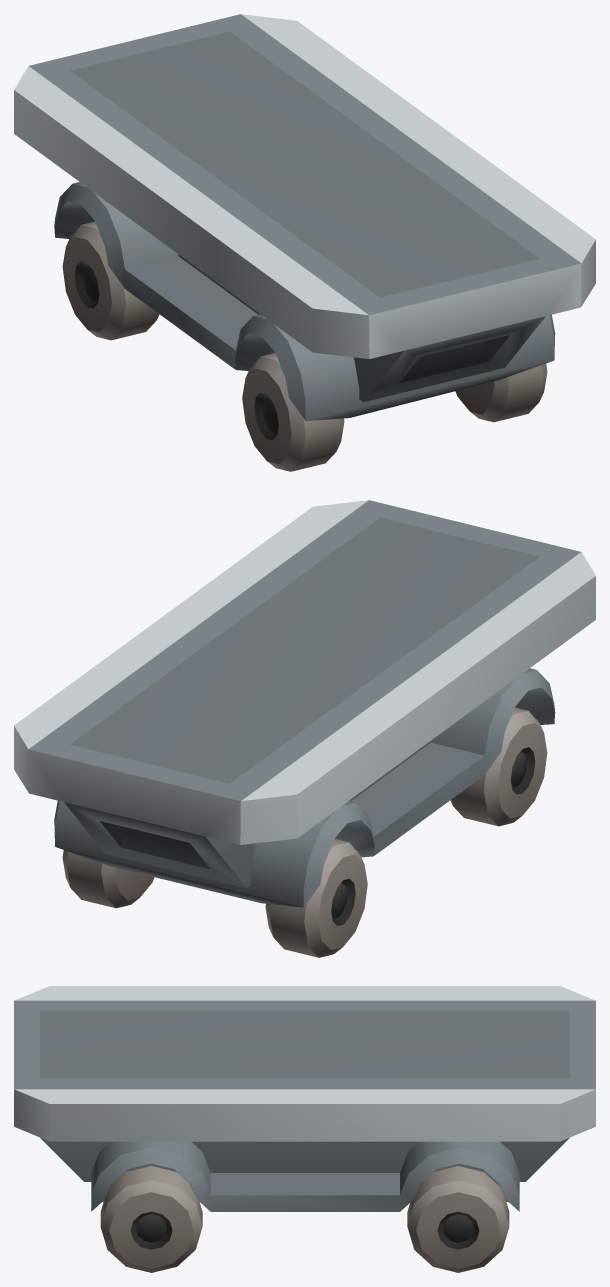
Rendered from spacetruck_trailer.gltf.
3 renders of one model, top to bottom at view 1: azimuth 30°, elevation 25°; view 2: azimuth 150°, elevation 25°; view 3: azimuth 270°, elevation 25°, orthographic. The views are drawn at different scales.
Visible parts, largest first — view 1: spacetruck_trailer, spacetruck_trailer_wheel_front_right, spacetruck_trailer_wheel_rear_right, spacetruck_trailer_wheel_front_left; view 2: spacetruck_trailer, spacetruck_trailer_wheel_rear_right, spacetruck_trailer_wheel_front_right, spacetruck_trailer_wheel_rear_left; view 3: spacetruck_trailer, spacetruck_trailer_wheel_front_left, spacetruck_trailer_wheel_rear_left.
Boxes of the visible parts, bbox=[...] form: spacetruck_trailer: bbox=[14, 14, 595, 420]; spacetruck_trailer_wheel_front_right: bbox=[242, 353, 344, 471]; spacetruck_trailer_wheel_rear_right: bbox=[62, 221, 159, 340]; spacetruck_trailer_wheel_front_left: bbox=[455, 363, 547, 422]; spacetruck_trailer: bbox=[14, 500, 595, 907]; spacetruck_trailer_wheel_rear_right: bbox=[265, 839, 367, 957]; spacetruck_trailer_wheel_front_right: bbox=[450, 707, 547, 826]; spacetruck_trailer_wheel_rear_left: bbox=[62, 850, 154, 908]; spacetruck_trailer: bbox=[14, 986, 595, 1211]; spacetruck_trailer_wheel_front_left: bbox=[100, 1166, 202, 1272]; spacetruck_trailer_wheel_rear_left: bbox=[407, 1166, 509, 1272].
Bounding box in the file's own units: 0.48 × 0.3382 × 1.
Materials: 1 (1 with a texture image).
